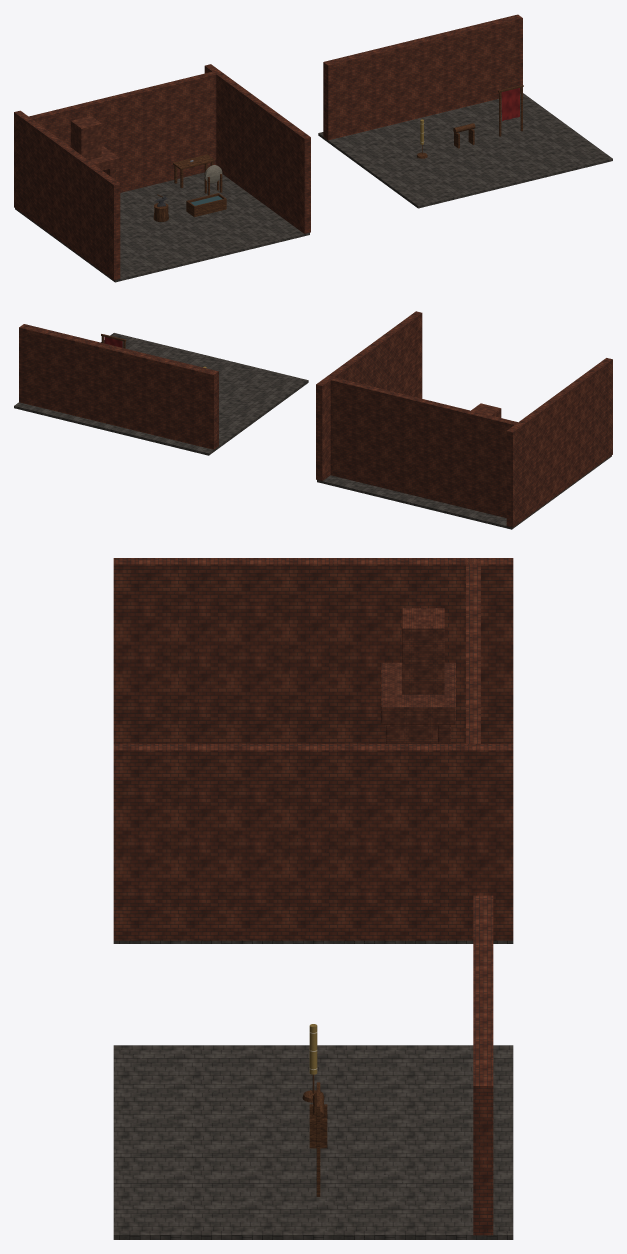
Rendered from sword-workshop.glb.
3 views of the same model, one above another, from view 1: azimuth 30°, elevation 25°; view 2: azimuth 150°, elevation 25°; view 3: azimuth 270°, elevation 25° (orthographic). The views are drawn at different scales.
Visible parts, largest first — view 1: Courtyard_Floor, Courtyard_Wall, Wall_Back, Floor, Wall_Left, Wall_Right, Chimney, Test_Cloth, Hood, Trough_Long_1; view 2: Wall_Back, Courtyard_Wall, Wall_Left, Courtyard_Floor, Wall_Right, Floor; view 3: Wall_Right, Courtyard_Floor, Wall_Left, Courtyard_Wall, Chimney, Hood, Wall_Back, Floor, Hearth_Side_Right.
Boxes of the visible parts, <box> form: Courtyard_Floor: <box>318,93,612,208</box>; Courtyard_Wall: <box>323,14,522,140</box>; Wall_Back: <box>24,70,220,192</box>; Floor: <box>15,172,309,282</box>; Wall_Left: <box>14,110,120,280</box>; Wall_Right: <box>204,64,310,233</box>; Chimney: <box>70,116,101,159</box>; Test_Cloth: <box>501,88,519,121</box>; Hood: <box>88,145,119,170</box>; Trough_Long_1: <box>193,198,226,216</box>; Wall_Back: <box>325,376,523,517</box>; Courtyard_Wall: <box>19,324,218,449</box>; Wall_Left: <box>506,358,612,527</box>; Courtyard_Floor: <box>14,333,308,455</box>; Wall_Right: <box>316,311,422,480</box>; Floor: <box>317,455,611,529</box>; Wall_Right: <box>113,744,513,940</box>; Courtyard_Floor: <box>113,1045,513,1239</box>; Wall_Left: <box>113,558,513,743</box>; Courtyard_Wall: <box>473,895,493,1235</box>; Chimney: <box>402,608,444,694</box>; Hood: <box>381,662,455,724</box>; Wall_Back: <box>466,559,480,745</box>; Floor: <box>113,940,513,943</box>; Hearth_Side_Right: <box>386,724,437,743</box>.
Size of the model in its own units: 23.05 by 4.3 by 8.
12 materials, 9 textured.
